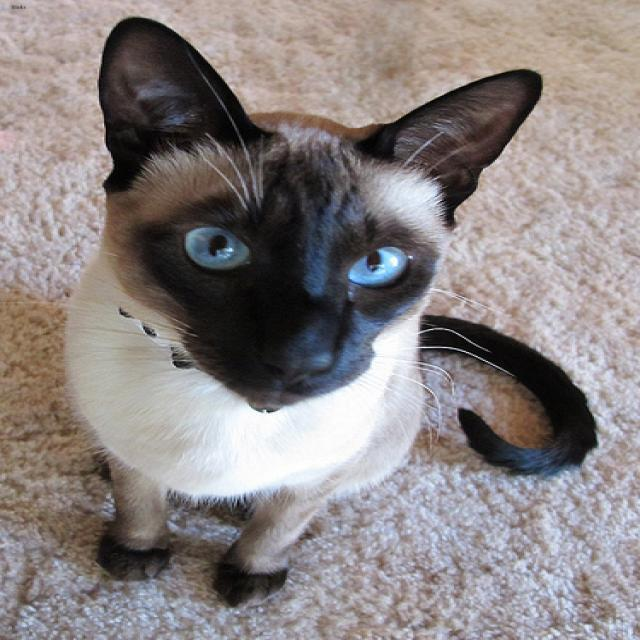Siamese: (99, 12, 546, 414)
